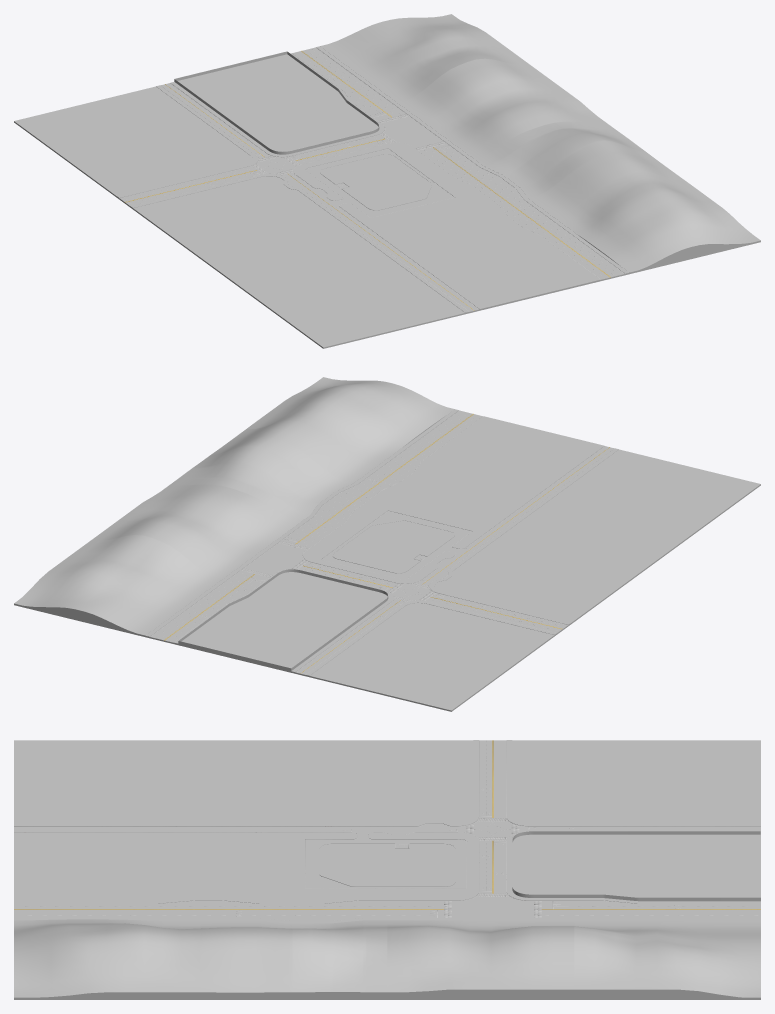
Rendered from MVDC_World.fbx.
3 renders of one model, top to bottom at view 1: azimuth 30°, elevation 25°; view 2: azimuth 150°, elevation 25°; view 3: azimuth 270°, elevation 25°, orthographic. The views are drawn at different scales.
Parts seen in each view (by area): view 1: World_Terrain_Concrete, World_Main_Road, World_Terrain_Soil, World_Hill_004, World_Hill_002, World_Hill_003, World_Hill_001, World_Sidewalk, World_Ground_01, World_Curb, World_Road_Line_White, Wolrd_Stone_Wall_001 (+1 smaller); view 2: World_Terrain_Concrete, World_Main_Road, World_Terrain_Soil, World_Hill_001, World_Hill_003, World_Hill_002, World_Hill_004, World_Sidewalk, World_Ground_01, World_Curb, World_Road_Line_White, Wolrd_Stone_Wall_001 (+1 smaller); view 3: World_Terrain_Concrete, World_Main_Road, World_Terrain_Soil, World_Hill_002, World_Hill_004, World_Hill_001, World_Hill_003, World_Sidewalk, World_Ground_01, World_Road_Line_White, World_Curb, Wolrd_Stone_Wall_001 (+2 smaller).
Boxes of the visible parts, x1,y1,x2,y2 form: World_Terrain_Concrete: [14, 54, 465, 348]; World_Main_Road: [119, 47, 625, 313]; World_Terrain_Soil: [299, 145, 596, 309]; World_Hill_004: [552, 170, 760, 274]; World_Hill_002: [397, 58, 605, 159]; World_Hill_003: [475, 121, 683, 215]; World_Hill_001: [320, 14, 528, 102]; World_Sidewalk: [117, 46, 628, 312]; World_Ground_01: [320, 154, 431, 209]; World_Curb: [117, 47, 629, 314]; World_Road_Line_White: [120, 48, 624, 311]; Wolrd_Stone_Wall_001: [174, 52, 379, 154]; World_Terrain_Concrete: [182, 449, 760, 711]; World_Main_Road: [149, 410, 614, 676]; World_Terrain_Soil: [308, 417, 600, 581]; World_Hill_001: [14, 535, 222, 637]; World_Hill_003: [169, 420, 377, 522]; World_Hill_002: [92, 484, 299, 578]; World_Hill_004: [247, 377, 454, 465]; World_Sidewalk: [146, 409, 618, 675]; World_Ground_01: [333, 520, 454, 572]; World_Curb: [145, 410, 618, 677]; World_Road_Line_White: [150, 411, 614, 674]; Wolrd_Stone_Wall_001: [178, 569, 388, 672]; World_Terrain_Concrete: [14, 740, 760, 897]; World_Main_Road: [14, 740, 760, 920]; World_Terrain_Soil: [14, 834, 473, 901]; World_Hill_002: [387, 920, 574, 999]; World_Hill_004: [14, 919, 200, 999]; World_Hill_001: [574, 920, 760, 999]; World_Hill_003: [200, 920, 387, 999]; World_Sidewalk: [14, 740, 760, 923]; World_Ground_01: [319, 844, 455, 886]; World_Road_Line_White: [14, 740, 760, 920]; World_Curb: [14, 740, 760, 920]; Wolrd_Stone_Wall_001: [512, 831, 760, 901].
Bounding box in the file's own units: 327 × 20.25 × 400.
